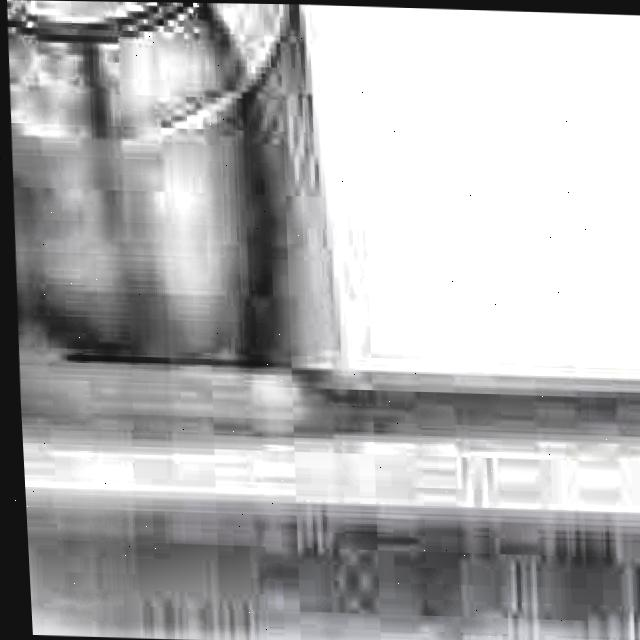metal: (6, 0, 640, 640)
